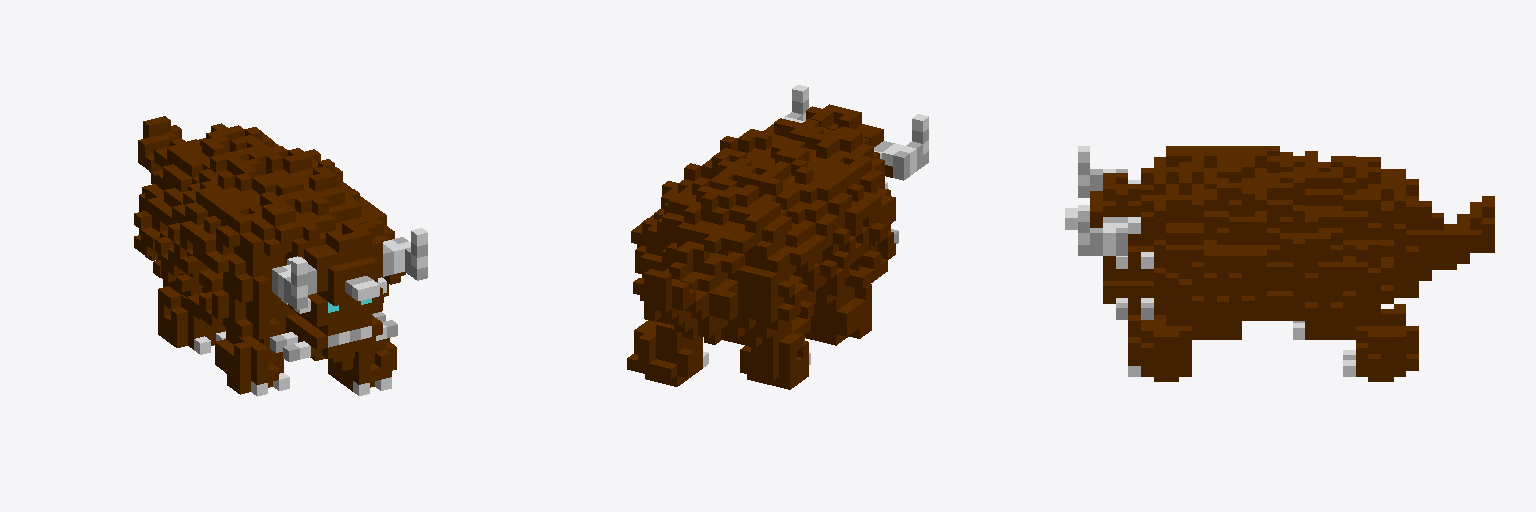
The picture shows the model from 3 angles: view 1: azimuth 30°, elevation 25°; view 2: azimuth 150°, elevation 25°; view 3: azimuth 270°, elevation 25°; orthographic projection.
Bounding box in the file's own units: 17 × 16 × 34.
Materials: 1 (1 with a texture image).